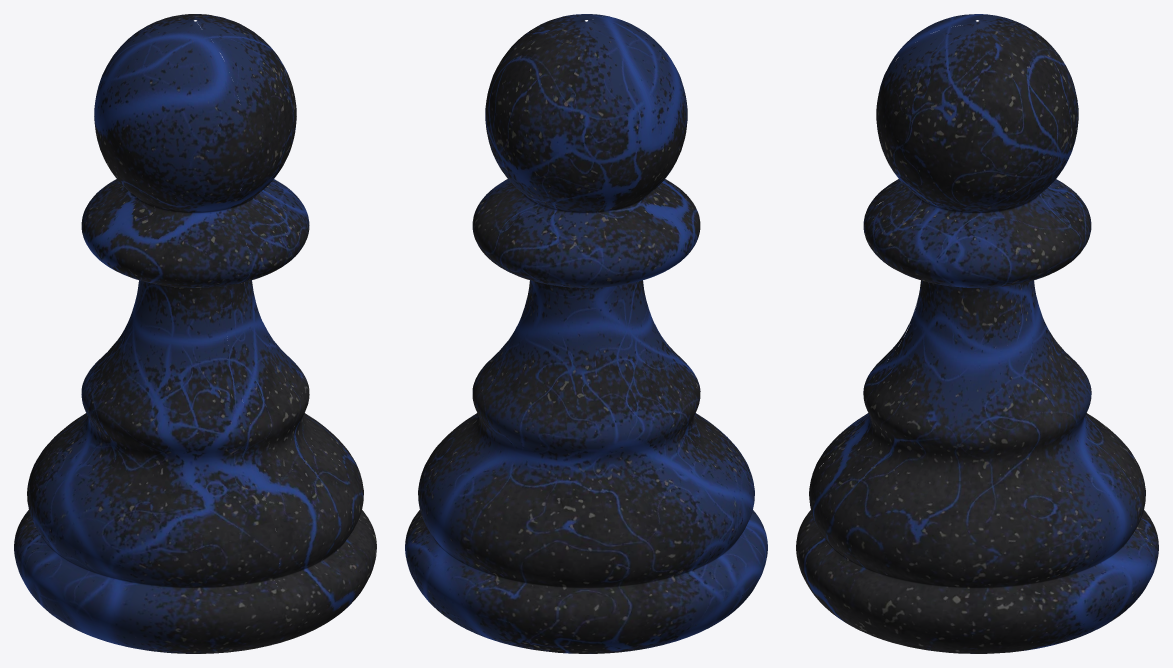
Rendered from pawn-black-hd.glb.
3 views of the same model, side by side, from view 1: azimuth 30°, elevation 25°; view 2: azimuth 150°, elevation 25°; view 3: azimuth 270°, elevation 25° (orthographic).
Visible parts, largest first — view 1: Cobalt Vein black pawn; view 2: Cobalt Vein black pawn; view 3: Cobalt Vein black pawn.
Part boxes in pixels (x1=…): Cobalt Vein black pawn: x1=14, y1=14, x2=376, y2=653; Cobalt Vein black pawn: x1=405, y1=14, x2=767, y2=653; Cobalt Vein black pawn: x1=796, y1=14, x2=1158, y2=653.
Bounding box in the file's own units: 0.4921 × 0.8592 × 0.4921.
Materials: 1 (1 with a texture image).
